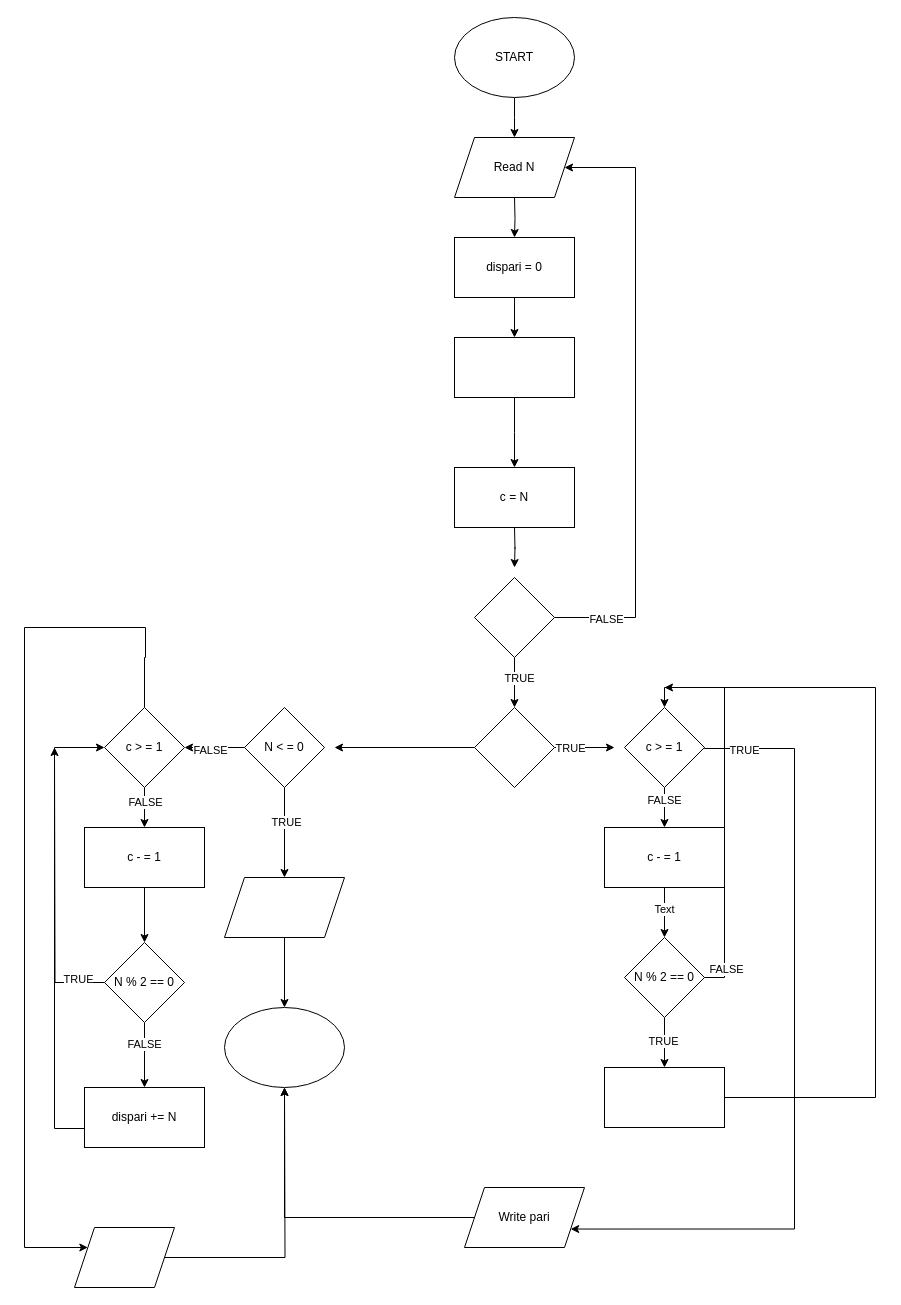
Image size: 901x1305. Some labels were removed from this diagram. Each missing label, with the centre of its shape:
END: (x=284, y=1047)
N % 1 == 0: (x=514, y=617)
N > 1 AND N < = 100: (x=514, y=747)
pari += N: (x=664, y=1097)
pari = 0: (x=514, y=367)
Write "errore": (x=284, y=907)
Write dispari: (x=124, y=1257)
